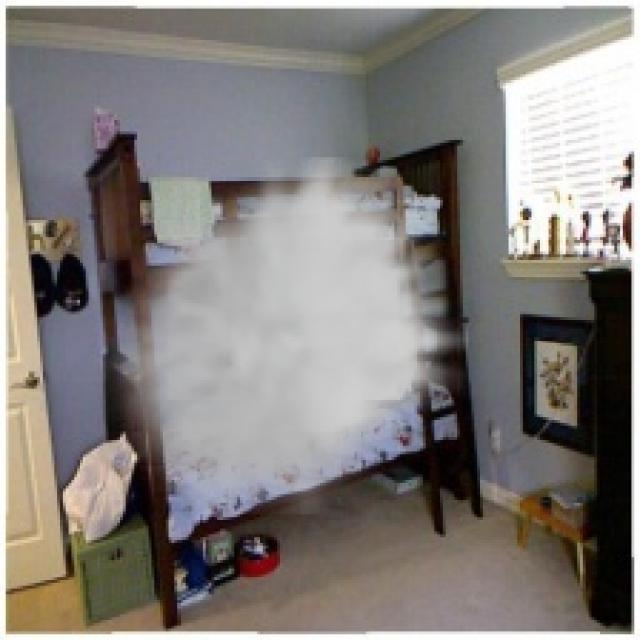Smoke: (100, 157, 469, 514)
